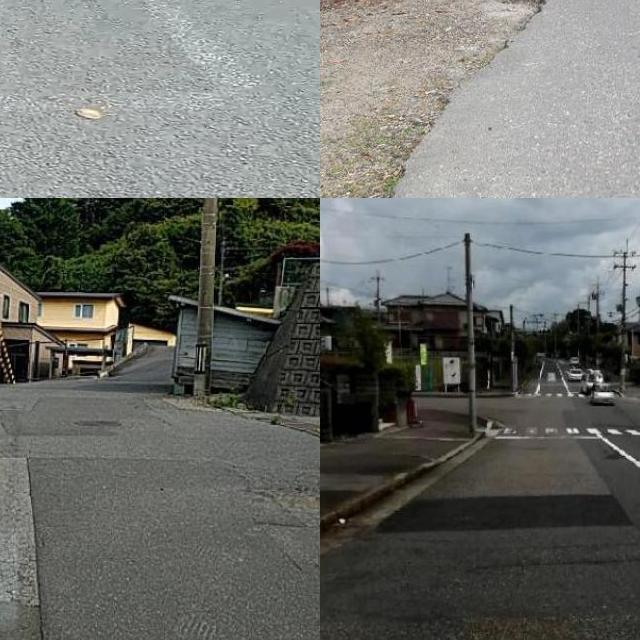Pinggir: (384, 0, 559, 198)
Sambungan: (388, 491, 630, 530), (0, 459, 45, 640)
